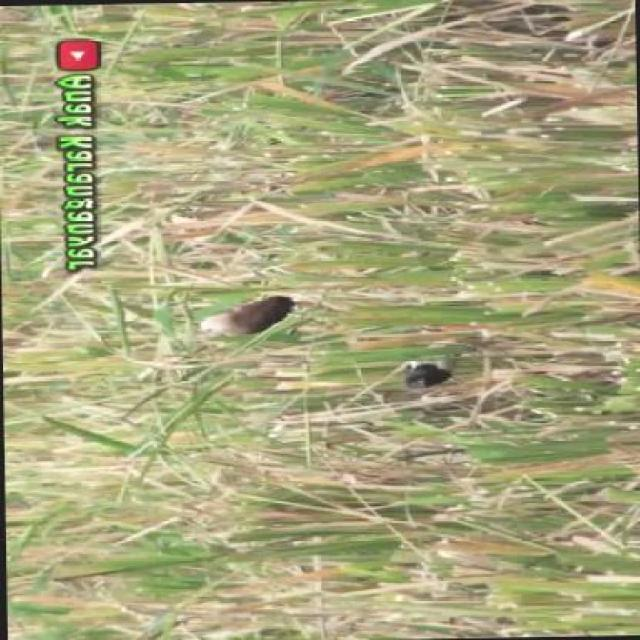Bird: (191, 284, 312, 350), (387, 352, 465, 393)
